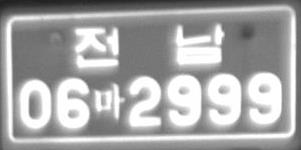0: (18, 77, 51, 129)
2: (129, 76, 162, 127)
6: (55, 76, 90, 128)
9: (166, 73, 203, 127), (246, 71, 283, 125), (207, 71, 242, 126)
마: (93, 81, 126, 120)
전남_D: (74, 21, 224, 67)
